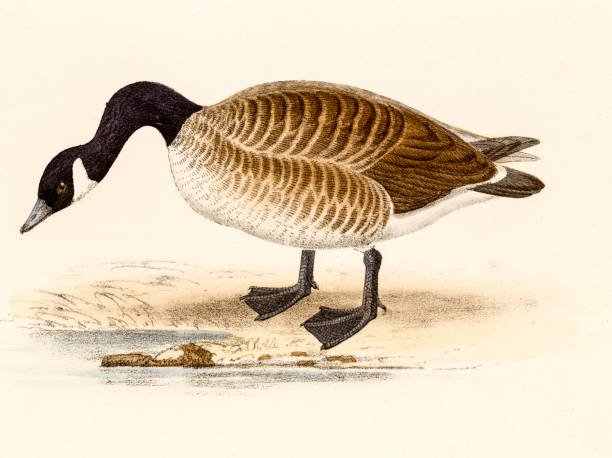goose: (15, 74, 548, 352)
